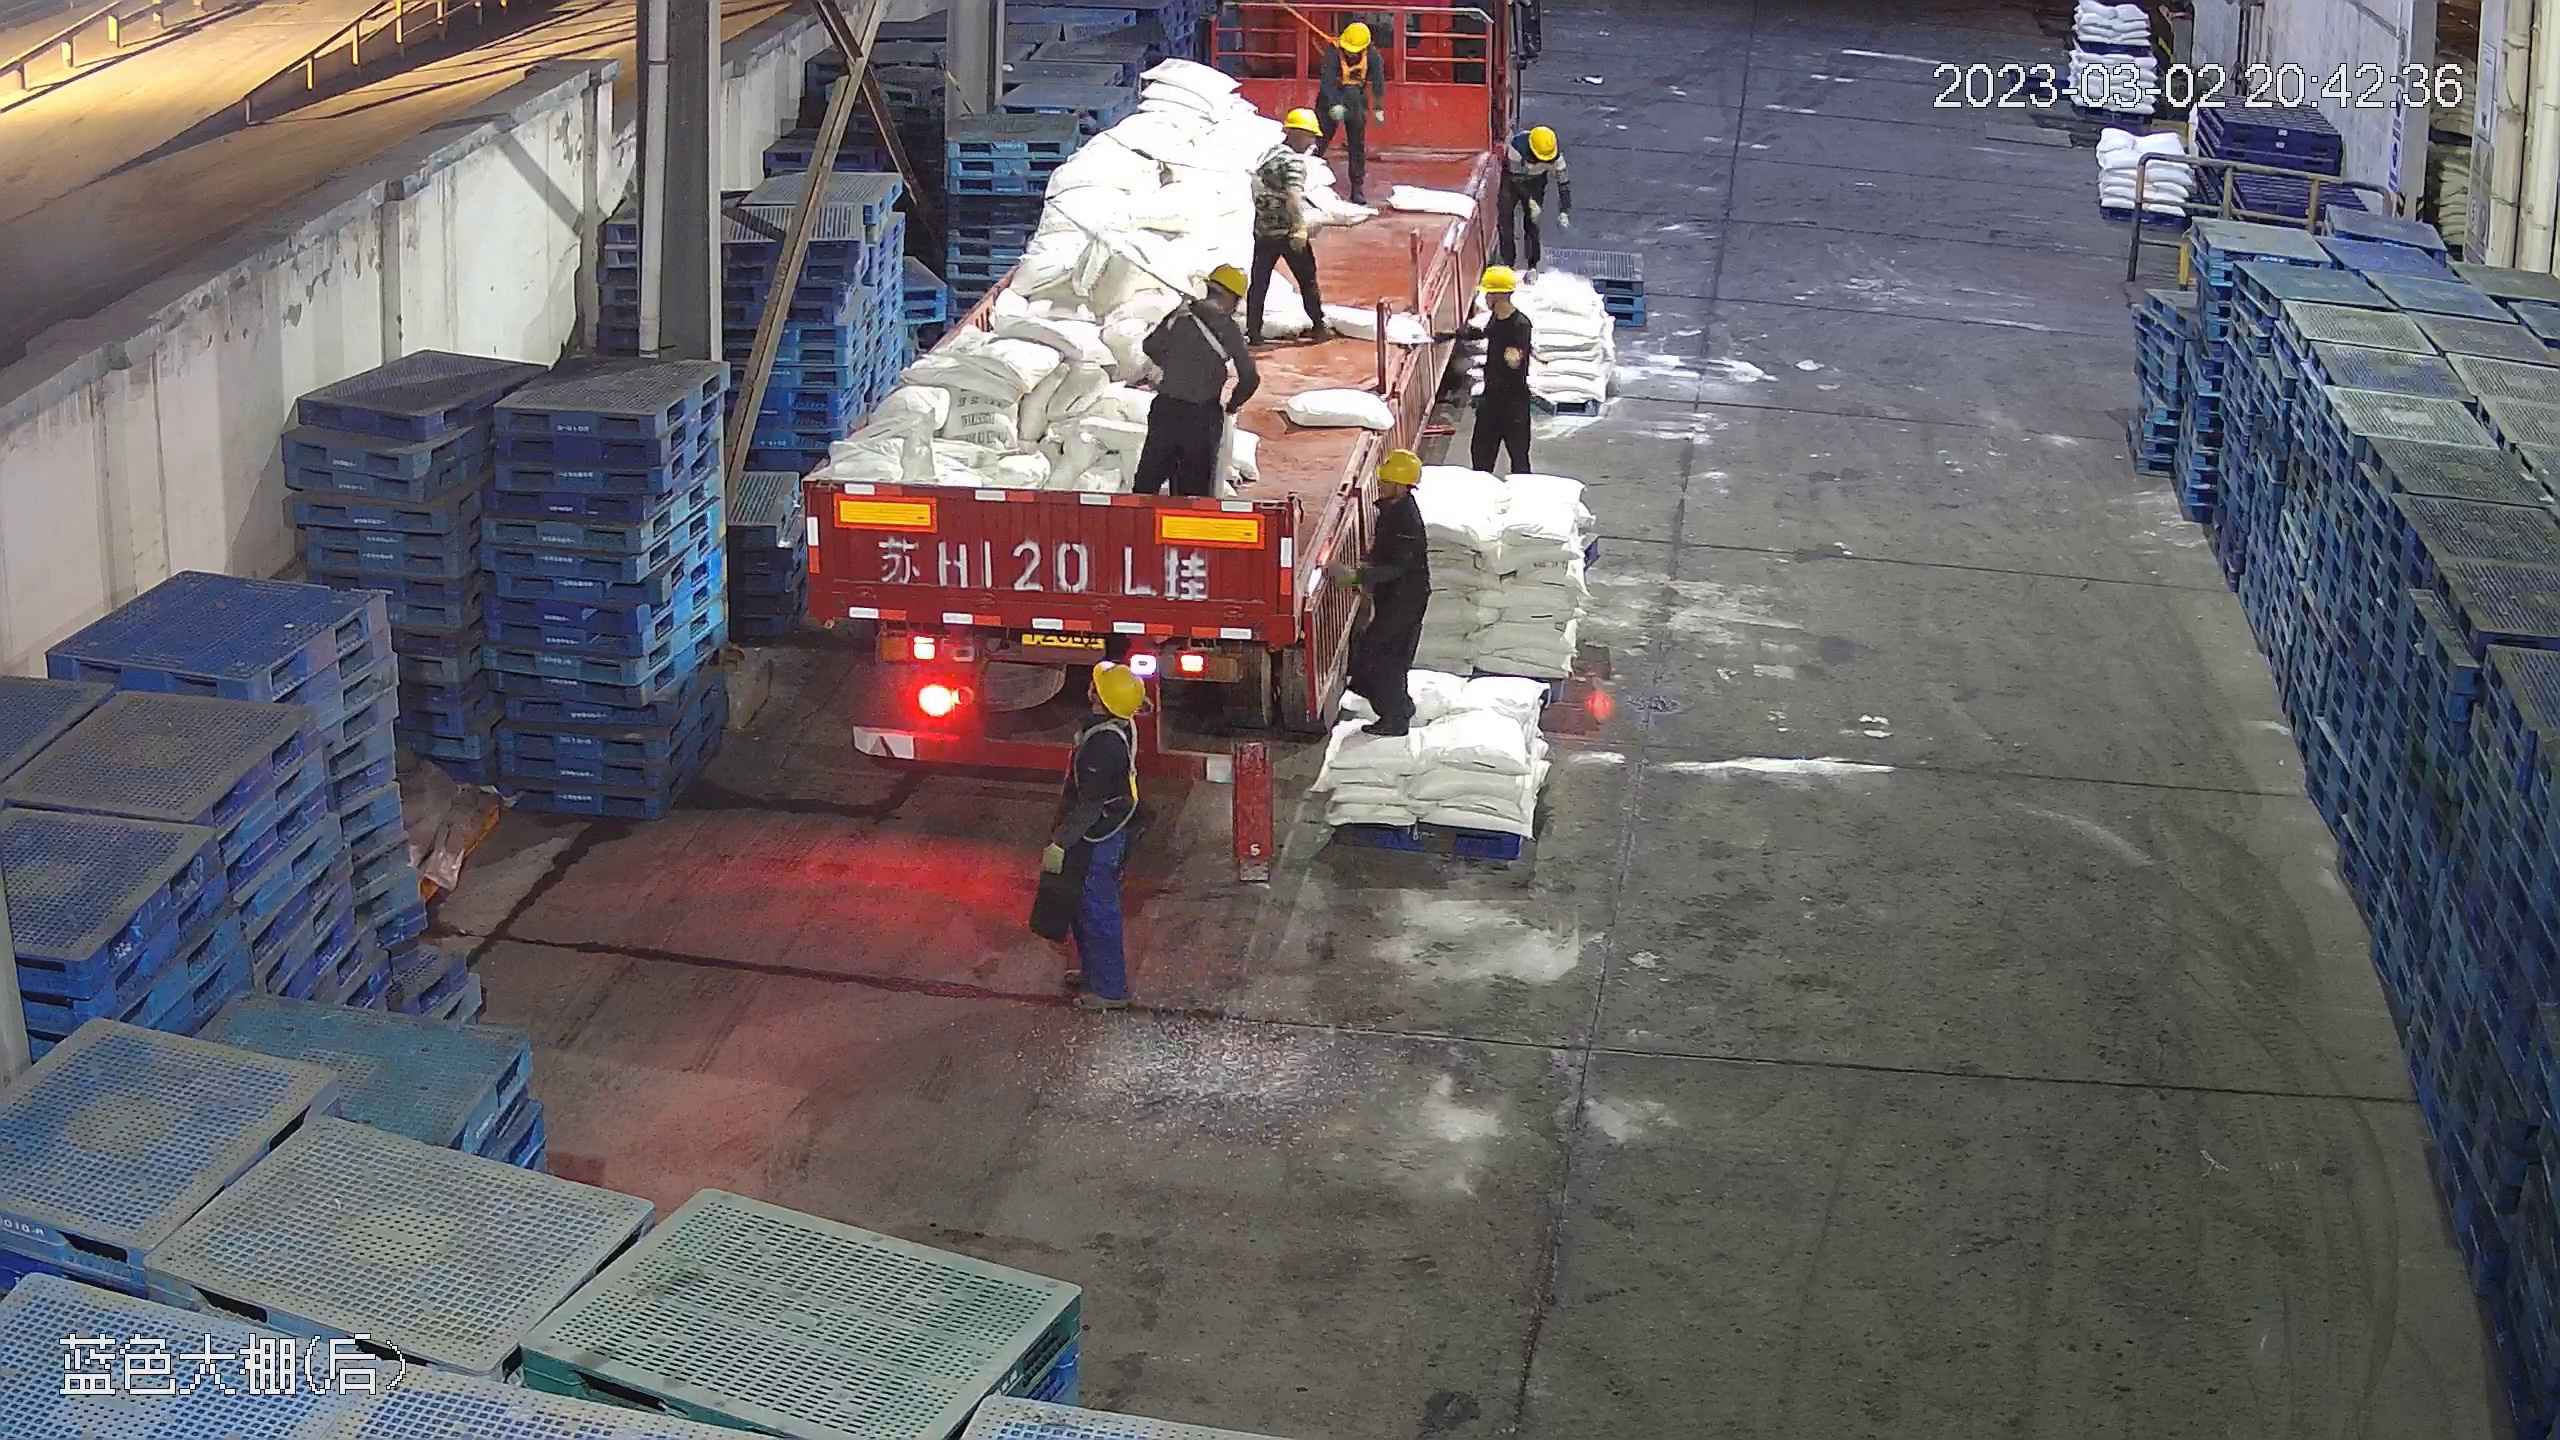belt: (1065, 721, 1139, 844), (1151, 300, 1239, 379), (1259, 109, 1319, 194), (1259, 141, 1307, 208), (1327, 28, 1373, 89)
head: (1477, 123, 1564, 277), (1060, 660, 1145, 774), (1156, 262, 1253, 356), (1355, 442, 1427, 547), (1459, 260, 1535, 344), (1259, 105, 1322, 177), (1490, 123, 1561, 187), (1323, 20, 1378, 74)
helmet: (1157, 263, 1251, 344), (1471, 261, 1526, 320), (1092, 658, 1145, 717), (1370, 443, 1423, 485), (1202, 262, 1251, 304), (1331, 20, 1374, 57), (1477, 261, 1519, 293), (1526, 125, 1558, 161), (1282, 109, 1320, 136)
people: (1033, 655, 1148, 1009), (1124, 259, 1257, 505), (1330, 442, 1433, 739), (1248, 104, 1338, 345), (1447, 262, 1537, 480), (1471, 119, 1567, 280), (1312, 16, 1389, 200)
truck: (790, 13, 1516, 780)
